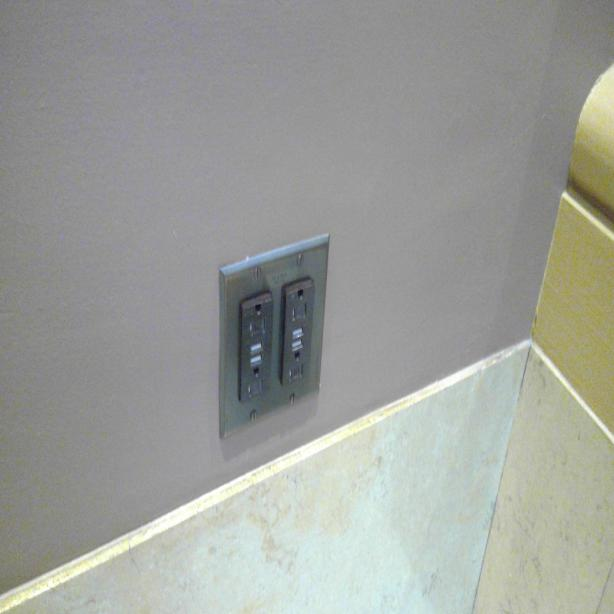typeb: (288, 283, 312, 325), (243, 302, 269, 340), (288, 348, 311, 386), (244, 365, 267, 399)
